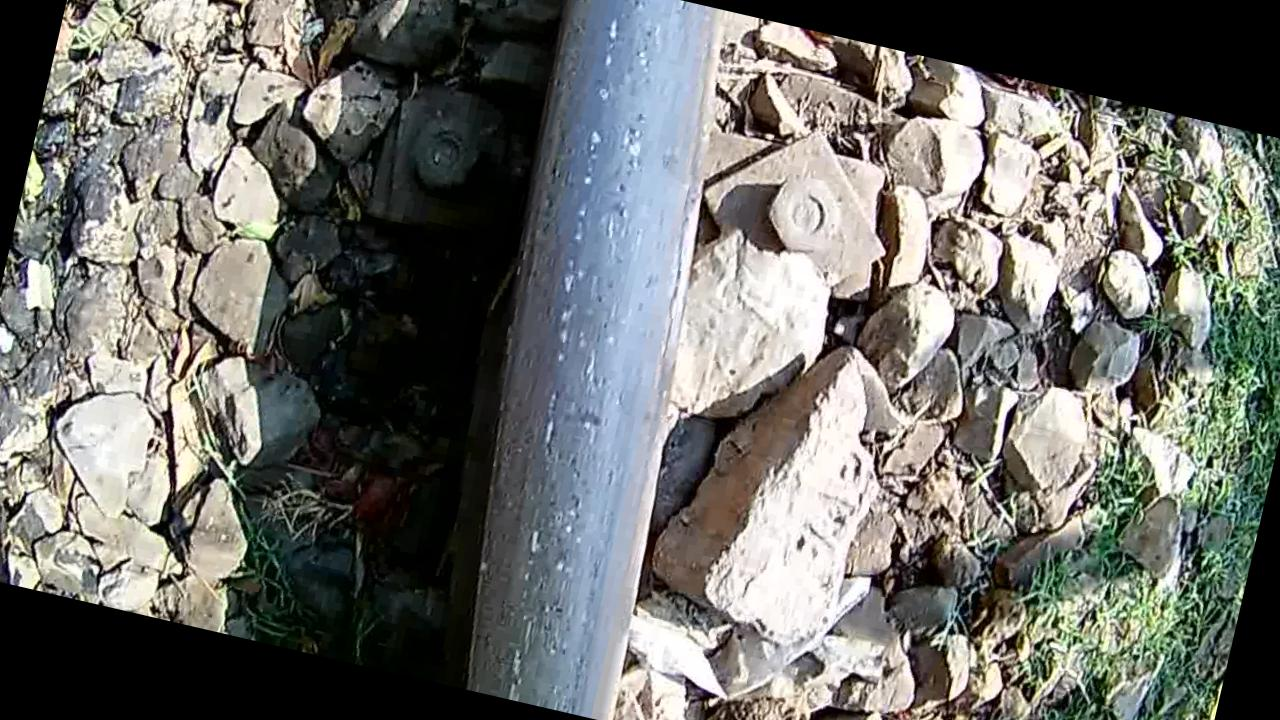clip_missing: (404, 0, 771, 720)
